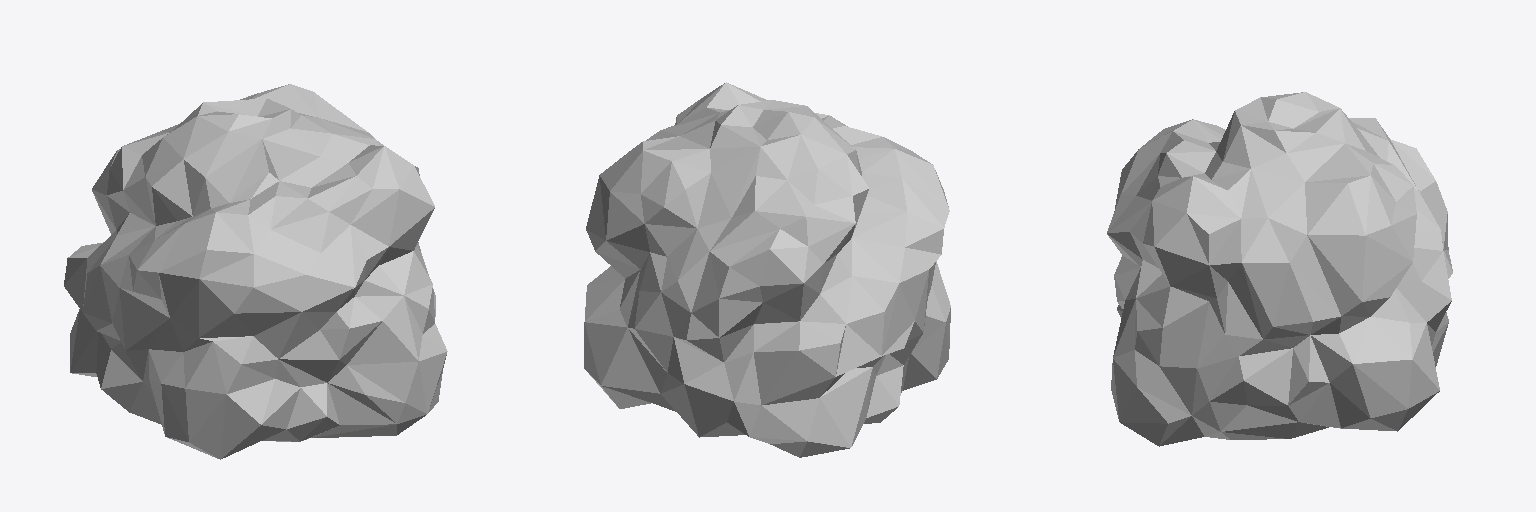
Rendered from boulder_1.obj.
3 renders of one model, left to right at view 1: azimuth 30°, elevation 25°; view 2: azimuth 150°, elevation 25°; view 3: azimuth 270°, elevation 25°, orthographic.
Visible parts, largest first — view 1: Icosphere.001; view 2: Icosphere.001; view 3: Icosphere.001.
Boxes of the visible parts, <box> form: Icosphere.001: <box>64,84,447,459</box>; Icosphere.001: <box>584,82,950,457</box>; Icosphere.001: <box>1107,92,1452,446</box>.
Size of the model in its own units: 1.18 by 1.11 by 1.19.